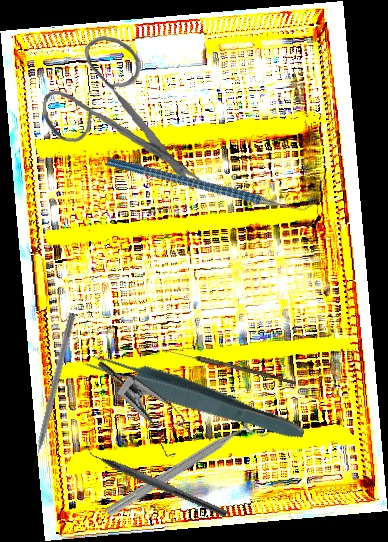Chopper: (105, 92, 319, 273), (77, 438, 233, 518)
Fixation Ring: (101, 406, 275, 531)
Iris Scissors: (37, 31, 213, 193)
Pusher: (27, 311, 77, 474)
Speculum: (74, 359, 210, 465)
Surgical Spoon: (161, 347, 297, 385)
Tissue Forceps: (80, 344, 309, 448)
